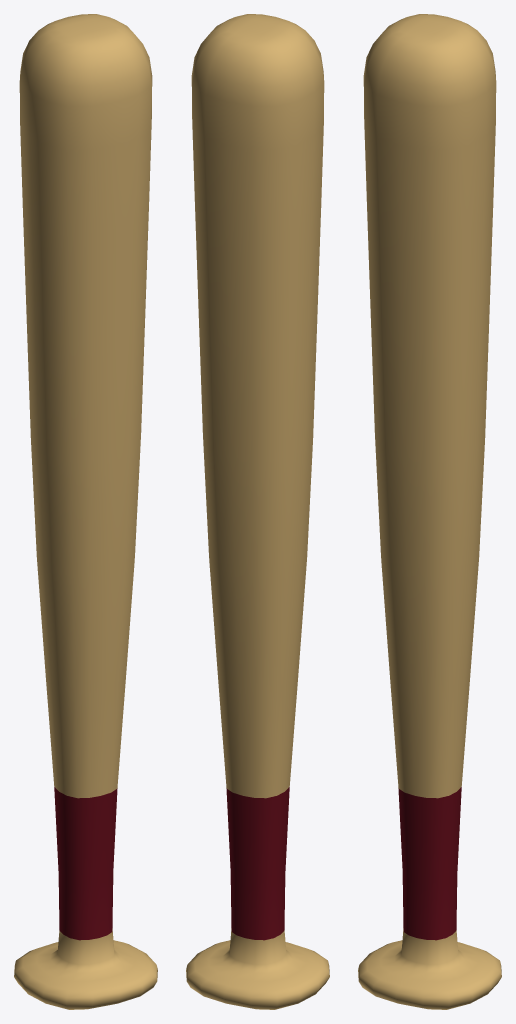
File: Baseball bat.glb
3 renders of one model, left to right at view 1: azimuth 30°, elevation 25°; view 2: azimuth 150°, elevation 25°; view 3: azimuth 330°, elevation 25°, orthographic.
Visible parts, largest first — view 1: Cube; view 2: Cube; view 3: Cube.
Boxes of the visible parts, x1,y1,x2,y2 form: Cube: (14,14,157,1009); Cube: (186,14,329,1009); Cube: (358,14,501,1009).
Bounding box in the file's own units: 0.0524 × 0.3922 × 0.05.
